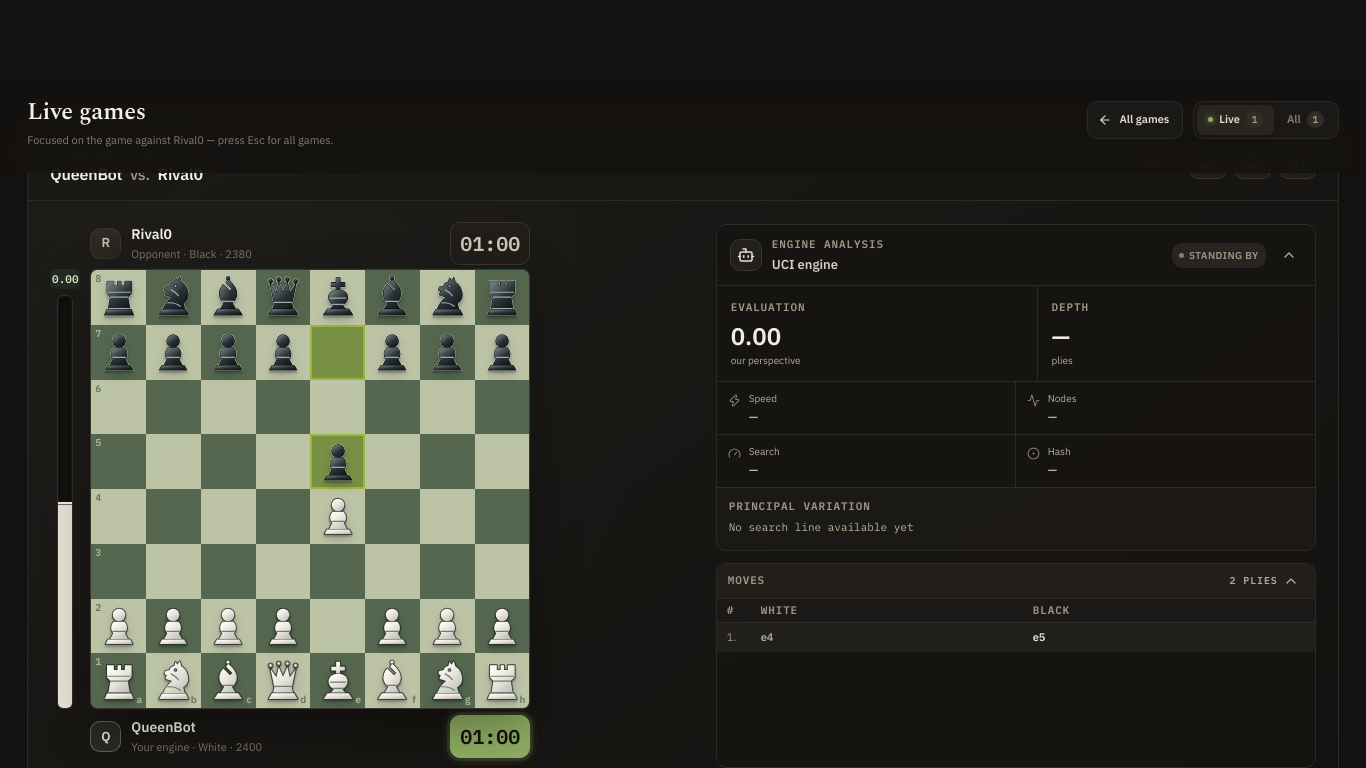
Scenario: the focus view's collapsed widgets › opens a widget again from the same control
The width and height of the screenshot is (1366, 768).
Click the button named "Collapse engine analysis": (1289, 255) [1276,242,1302,268]
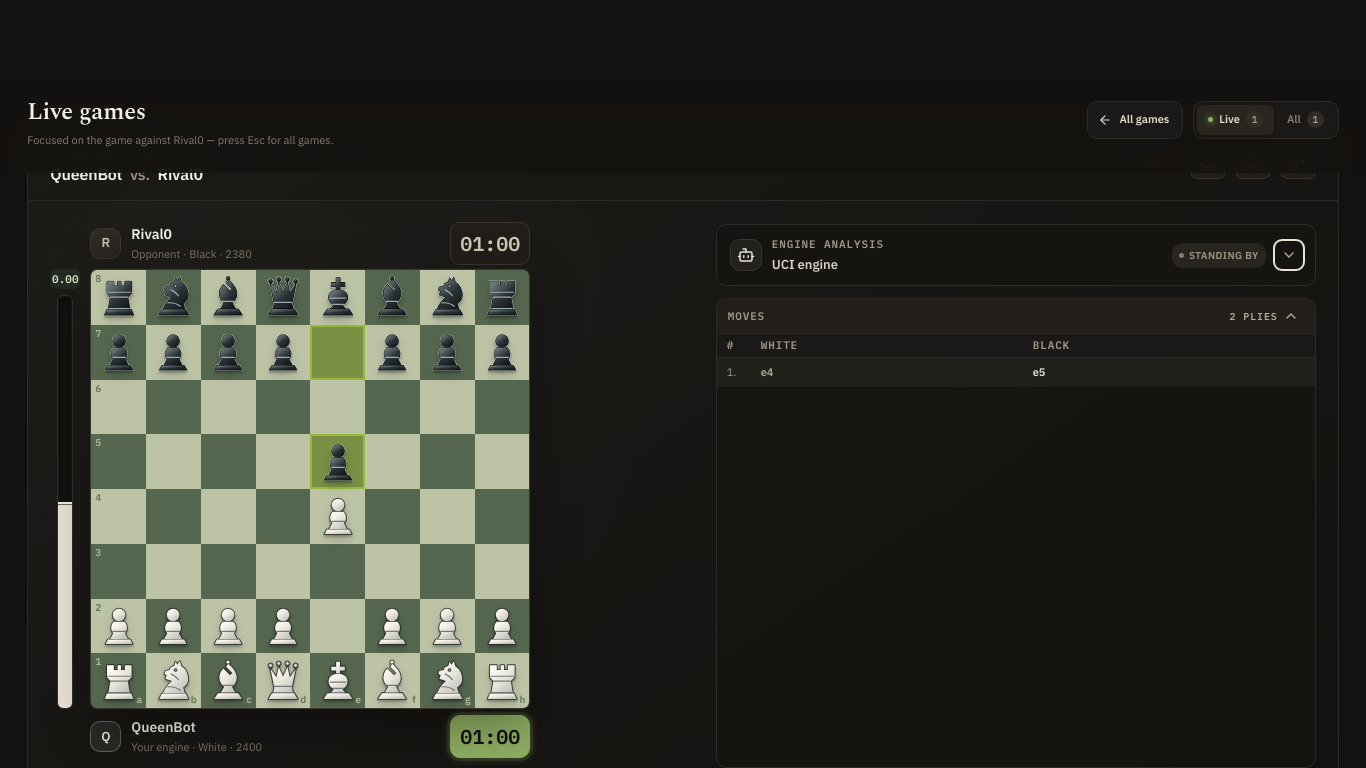
Click the button named "Collapse moves": (1291, 316) [1278,303,1304,329]
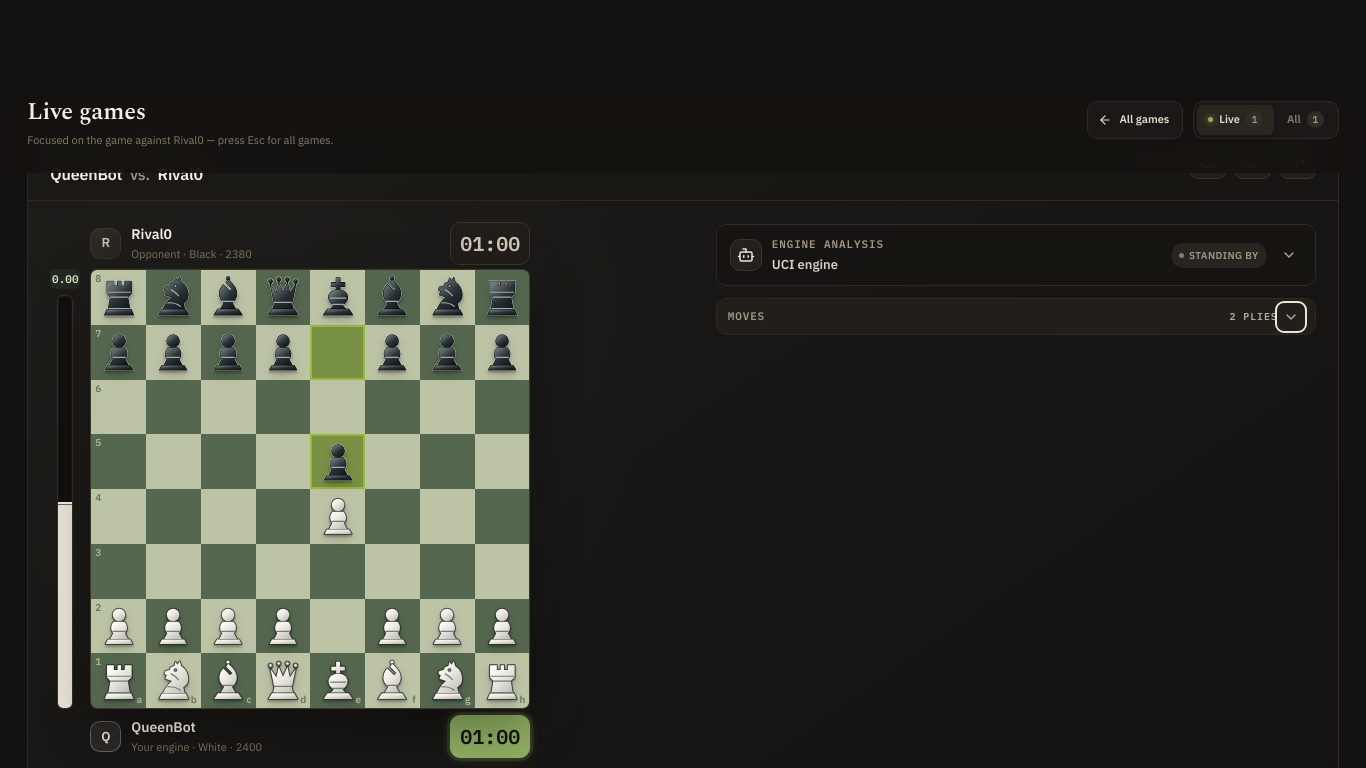
Click the button named "Expand engine analysis": (1289, 255) [1276,242,1302,268]
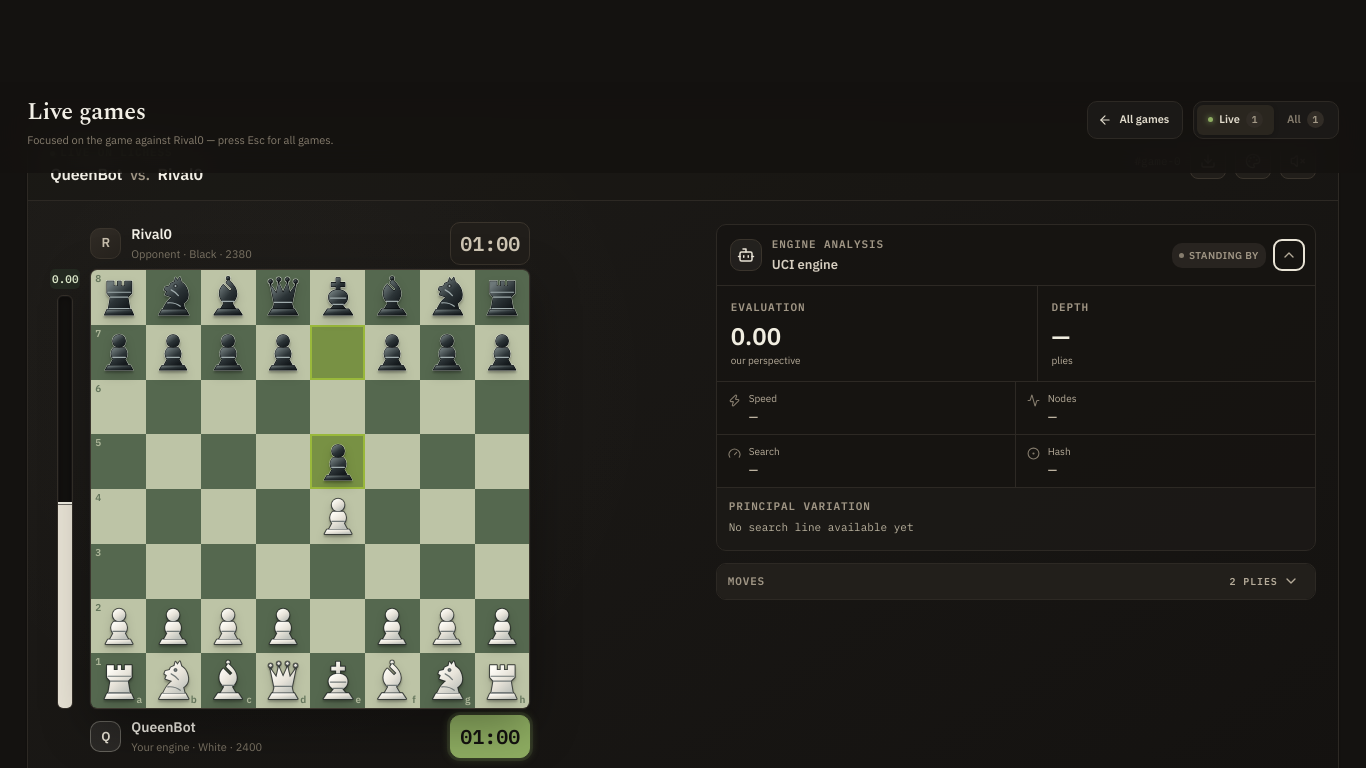
Now the text "Principal variation" is shown, box [729,498,871,512]
